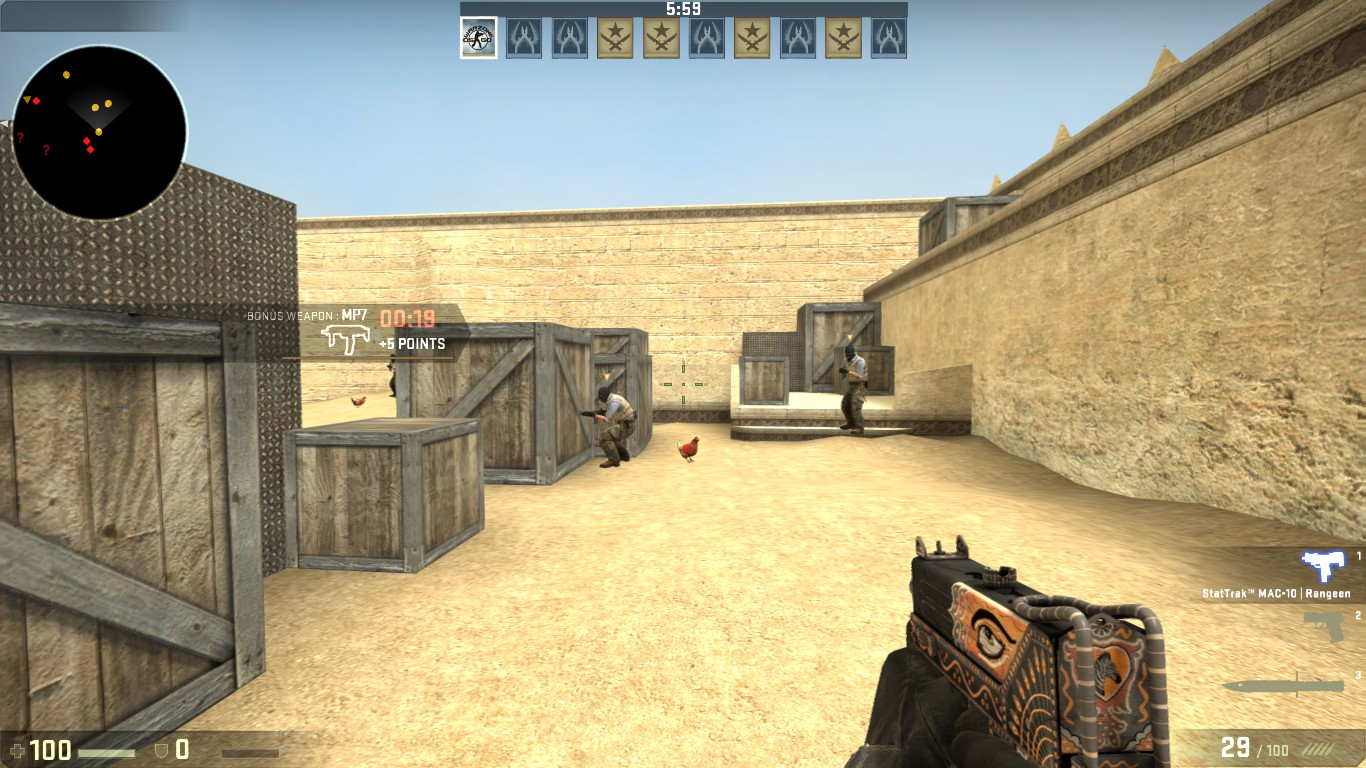t: (585, 382, 640, 470), (834, 344, 869, 436)
th: (593, 384, 614, 403), (840, 345, 858, 363)
